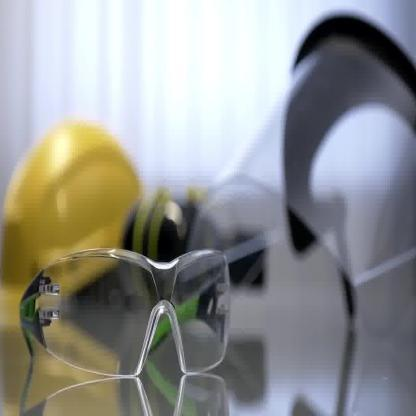goggles: (19, 245, 230, 381)
helmet: (0, 121, 147, 328)
